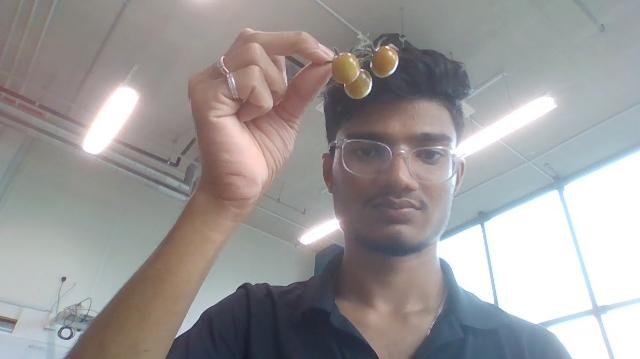Fully Grown: (370, 45, 400, 78), (331, 51, 360, 85), (343, 68, 373, 100)
